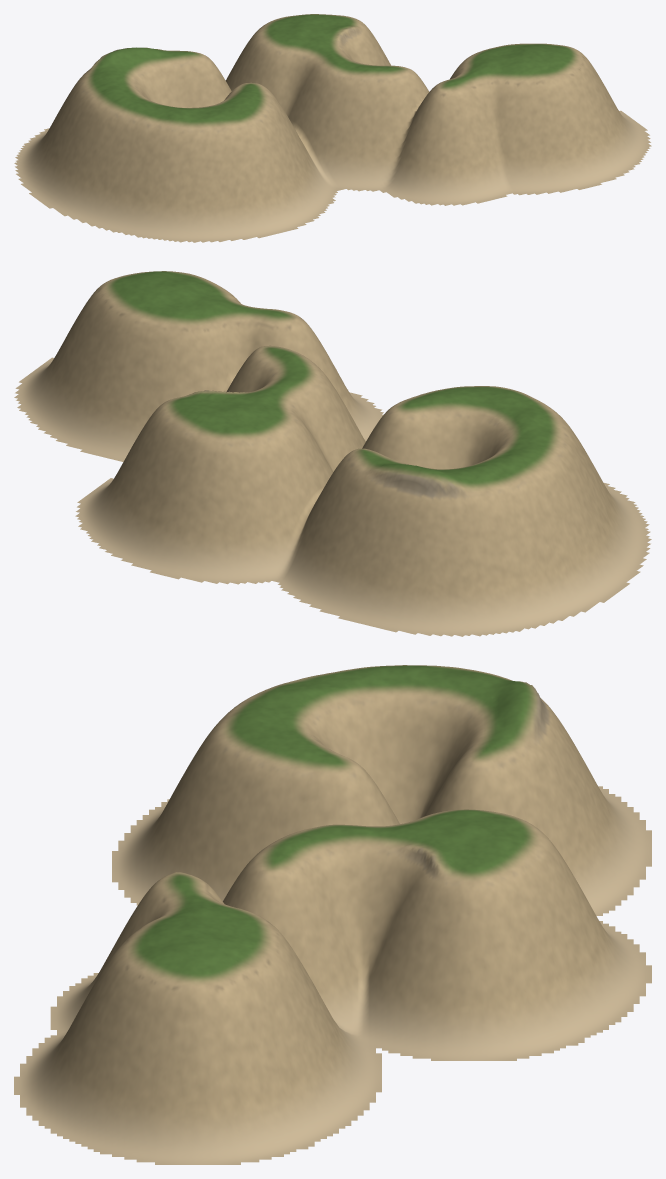
Rendered from lagoon.glb.
3 renders of one model, top to bottom at view 1: azimuth 30°, elevation 25°; view 2: azimuth 150°, elevation 25°; view 3: azimuth 270°, elevation 25°, orthographic. The views are drawn at different scales.
Visible parts, largest first — view 1: Coast; view 2: Coast; view 3: Coast.
Part boxes in pixels (x1,y1,x2,y2): Coast: (14, 14, 651, 242); Coast: (14, 271, 651, 636); Coast: (14, 665, 651, 1164).
Bounding box in the file's own units: 79.5 × 13.73 × 52.
Materials: 1 (1 with a texture image).
